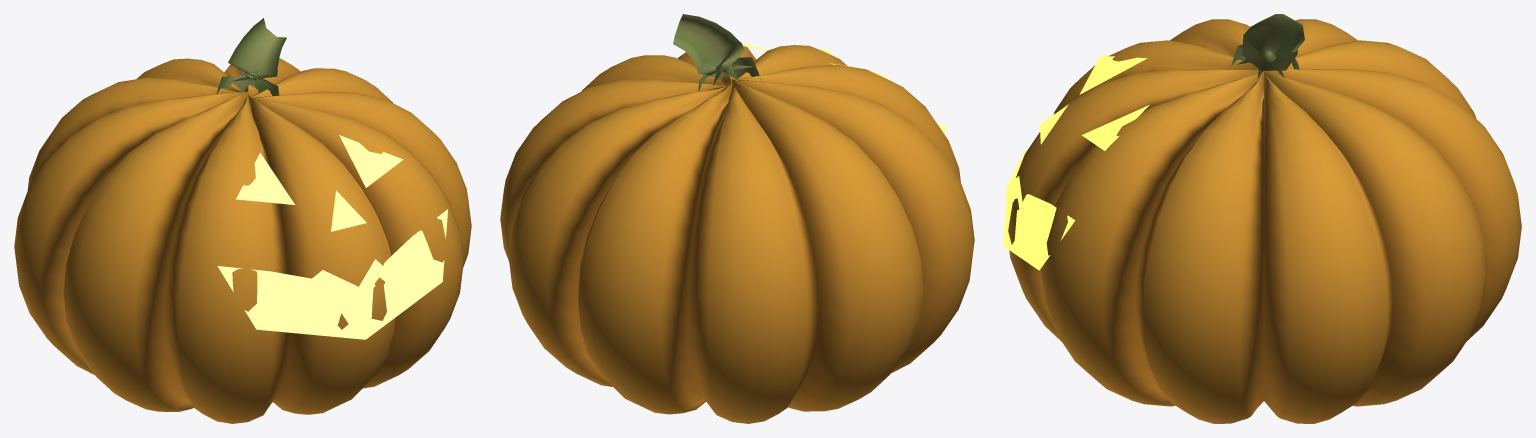
The model's file is pumpkin_round.glb.
The picture shows the model from 3 angles, left to right: view 1: azimuth 30°, elevation 25°; view 2: azimuth 150°, elevation 25°; view 3: azimuth 270°, elevation 25°; orthographic projection. The views are drawn at different scales.
Parts seen in each view (by area): view 1: body, face; view 2: body; view 3: body, face.
Part boxes in pixels (box(x1,y1,x2,y2)): body: box(14, 18, 471, 423); face: box(217, 135, 447, 339); body: box(500, 14, 974, 423); body: box(1008, 14, 1521, 423); face: box(1003, 55, 1149, 270).
Bounding box in the file's own units: 0.9685 × 0.8299 × 1.01.
